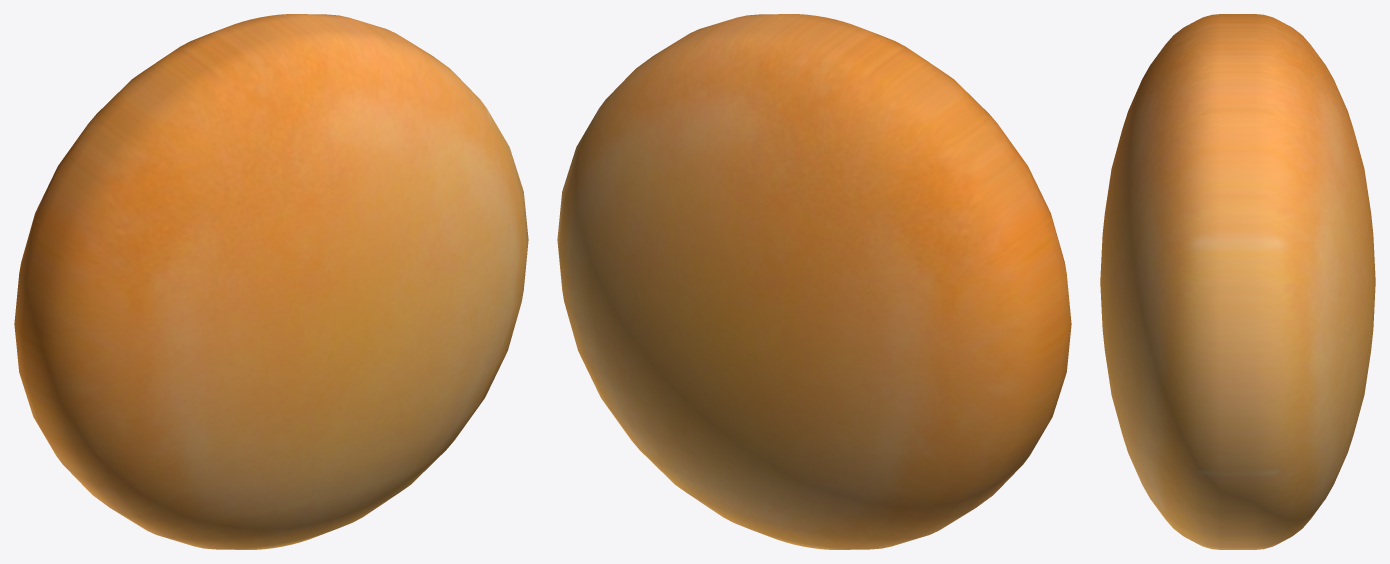
The model's file is 20170323GOPHDRGPT25673.fbx.
3 views of the same model, side by side, from view 1: azimuth 30°, elevation 25°; view 2: azimuth 150°, elevation 25°; view 3: azimuth 270°, elevation 25° (orthographic). The views are drawn at different scales.
Visible parts, largest first — view 1: 球體.002; view 2: 球體.002; view 3: 球體.002.
Boxes of the visible parts, left/top/right/bottom form: 球體.002: left=14, top=14, right=528, bottom=549; 球體.002: left=557, top=14, right=1071, bottom=549; 球體.002: left=1100, top=14, right=1375, bottom=549.
Size of the model in its own units: 1.29 by 1.29 by 0.6639.
